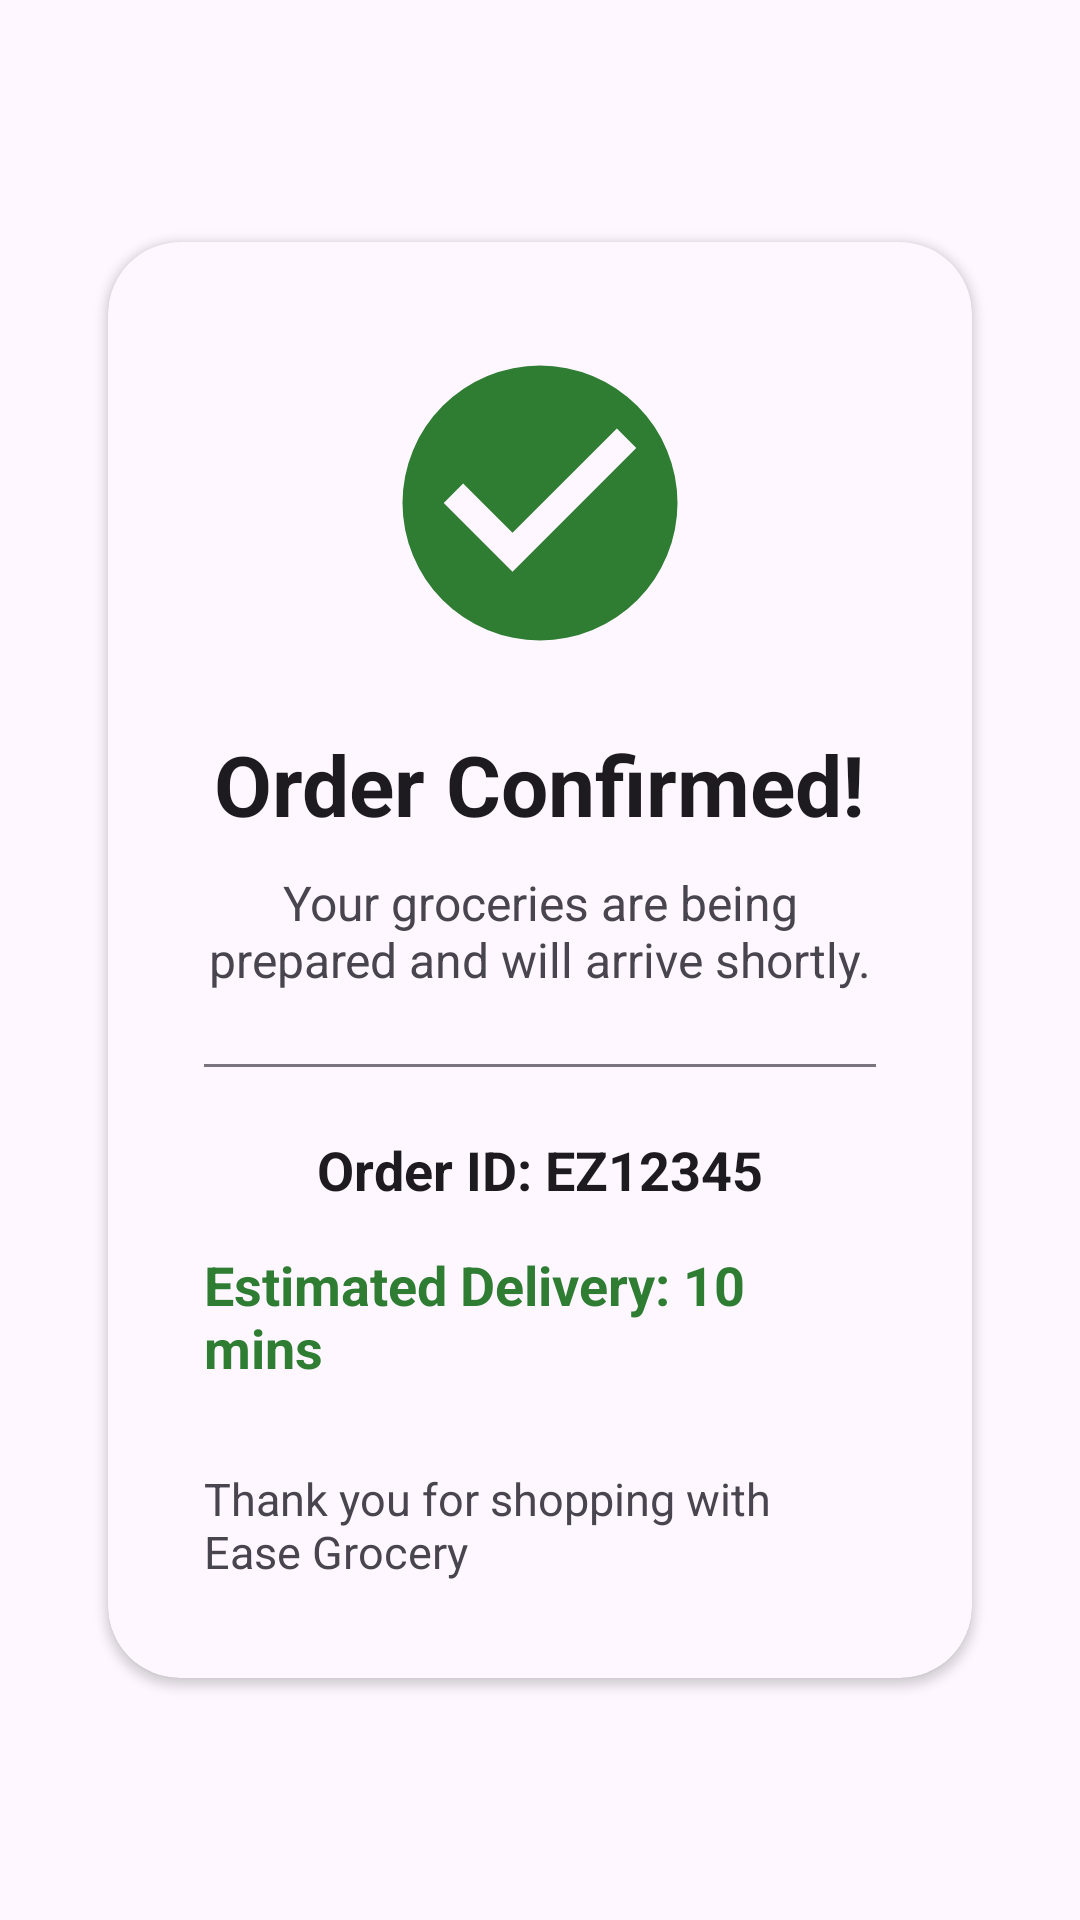

Point at icon controls on the screen. Image size 1080w x 1920h, points as point (x, y).
success: point (540, 503)
